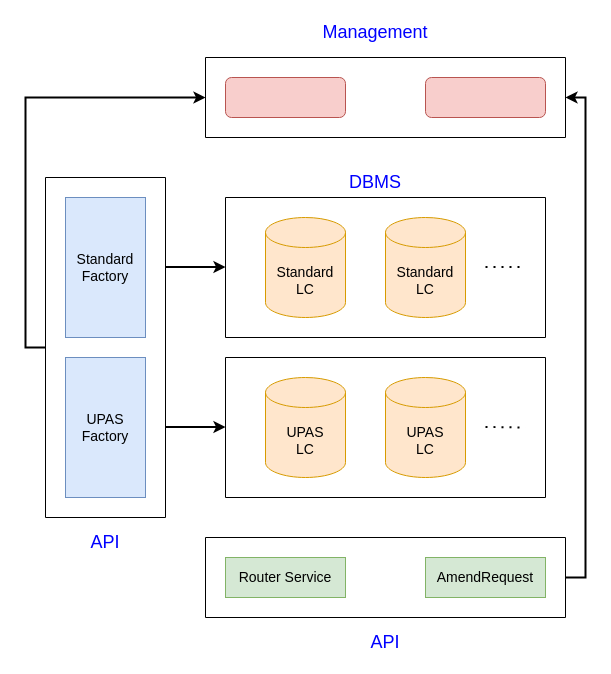
Some shapes in this 611 by 674 pixel diagram are drawn without their labels. Each missing label, with the box of its shape:
AMC: (224, 76, 346, 118)
Permission: (424, 76, 546, 118)
